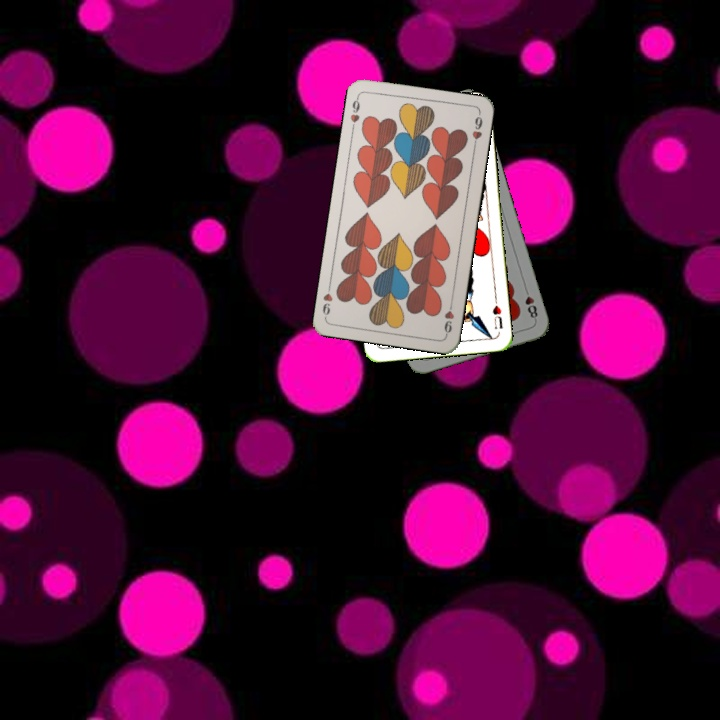H8: (520, 284, 540, 323)
H9: (346, 92, 363, 133), (440, 297, 456, 337)
HU: (488, 294, 505, 332)
